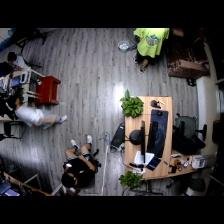normal: (6, 91, 67, 127), (56, 135, 94, 189), (134, 26, 166, 72), (6, 51, 31, 72)
